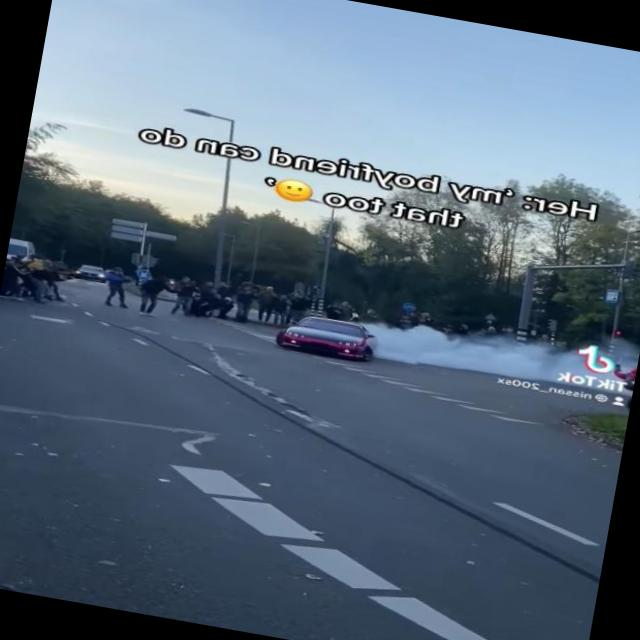car: (274, 308, 376, 364)
